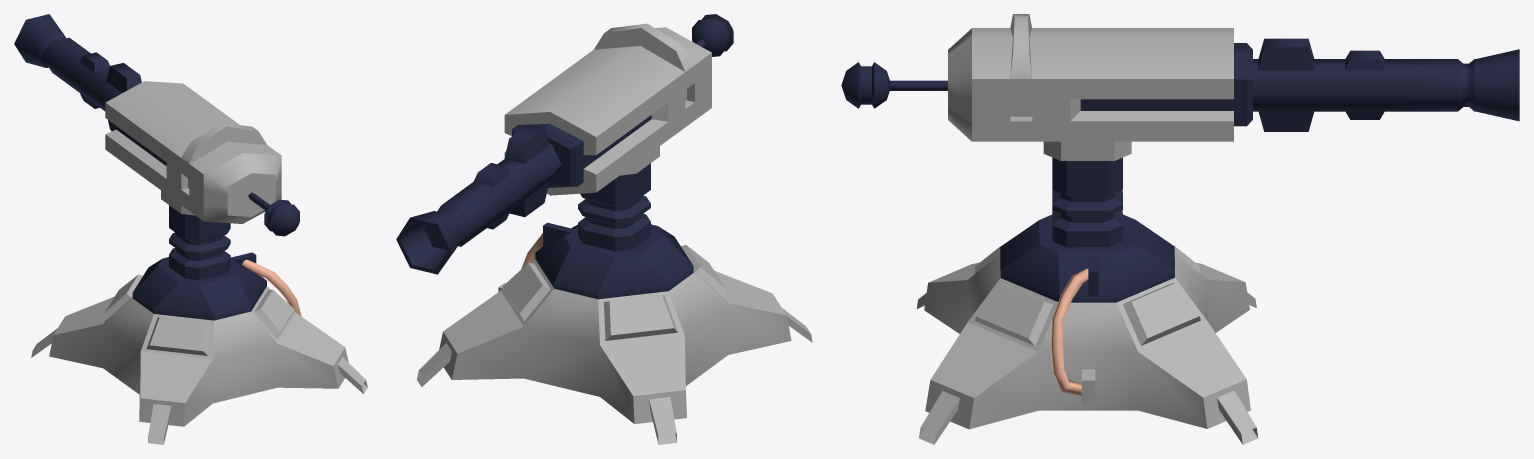
File: Turret M1.FBX
3 renders of one model, left to right at view 1: azimuth 30°, elevation 25°; view 2: azimuth 150°, elevation 25°; view 3: azimuth 270°, elevation 25°, orthographic. The views are drawn at different scales.
Parts seen in each view (by area): view 1: Cylinder001, Cylinder002, Middle, Cylinder003, Sphere001, Line001; view 2: Cylinder001, Cylinder002, Middle, Cylinder003, Cylinder004, Sphere001, Box002; view 3: Cylinder001, Cylinder002, Cylinder003, Middle, Cylinder004, Line001, Sphere001.
Part boxes in pixels (box(x1,y1,x2,y2)): Cylinder001: box(31, 274, 367, 444); Cylinder002: box(105, 81, 281, 223); Middle: box(132, 205, 266, 320); Cylinder003: box(14, 14, 141, 129); Sphere001: box(264, 199, 299, 236); Line001: box(242, 259, 301, 316); Cylinder001: box(416, 245, 812, 444); Cylinder002: box(504, 23, 711, 195); Middle: box(535, 163, 693, 299); Cylinder003: box(396, 124, 561, 274); Cylinder004: box(512, 115, 651, 187); Sphere001: box(692, 14, 733, 56); Box002: box(543, 222, 573, 246); Cylinder001: box(916, 246, 1257, 444); Cylinder002: box(948, 14, 1233, 160); Cylinder003: box(1253, 38, 1519, 131); Middle: box(1000, 157, 1174, 302); Cylinder004: box(1080, 43, 1252, 126); Line001: box(1050, 268, 1088, 395); Sphere001: box(841, 62, 890, 108).
Size of the model in its own units: 52.45 by 60.49 by 104.
